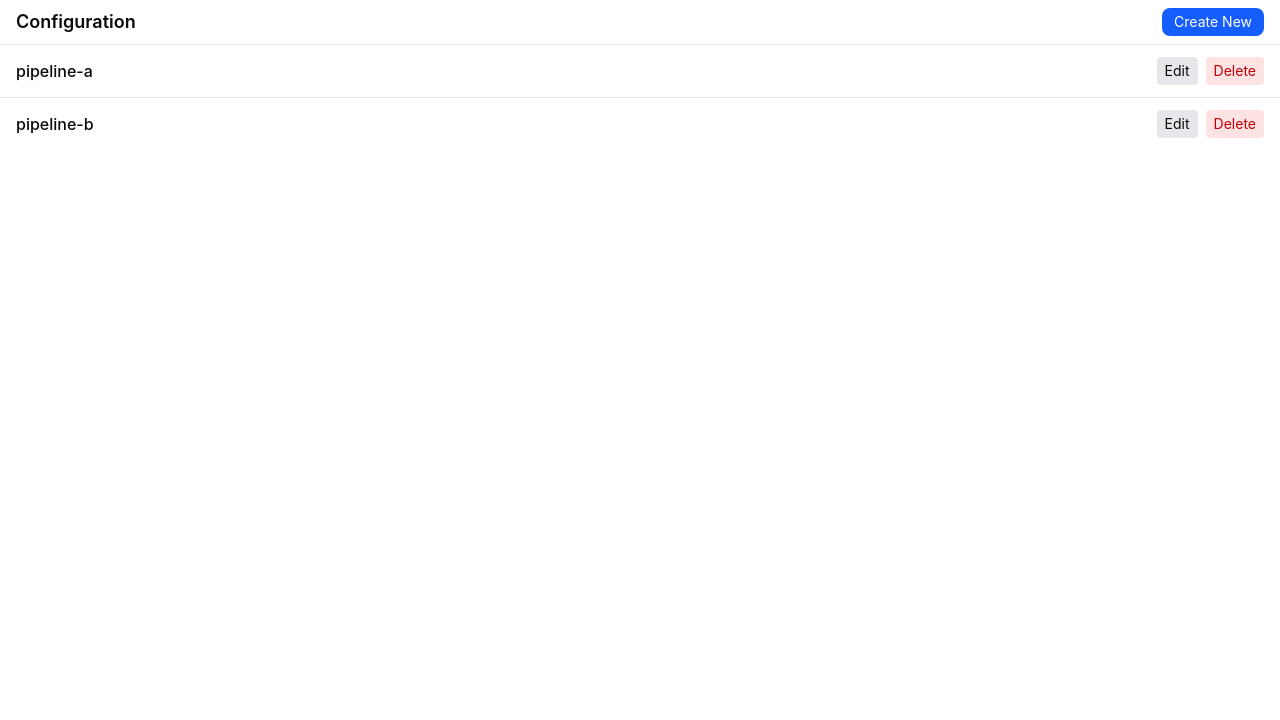
Test case: ConfigPanel › cancels editing and returns to list
Click the button with test id "config-create" at point(1213, 22), box [1162,8,1264,36]
(page scrolled)
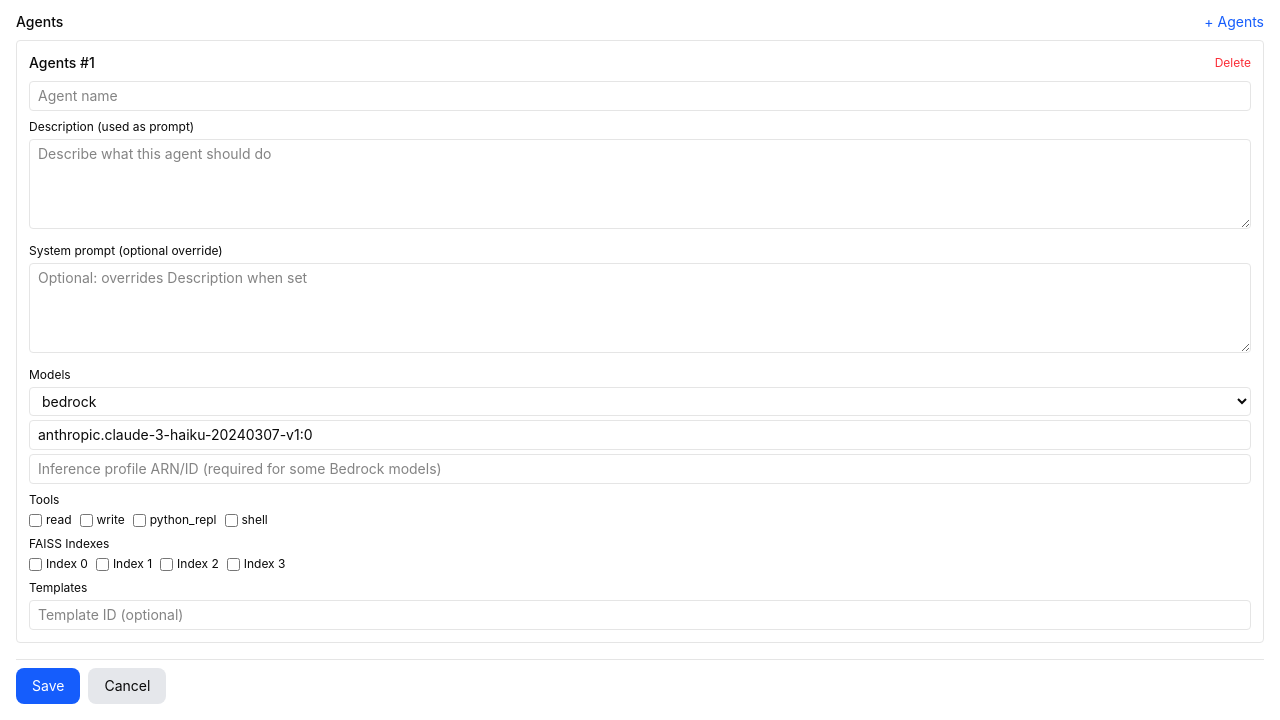
Click the button with test id "config-cancel" at point(127, 686), box [88,668,166,704]
(page scrolled)
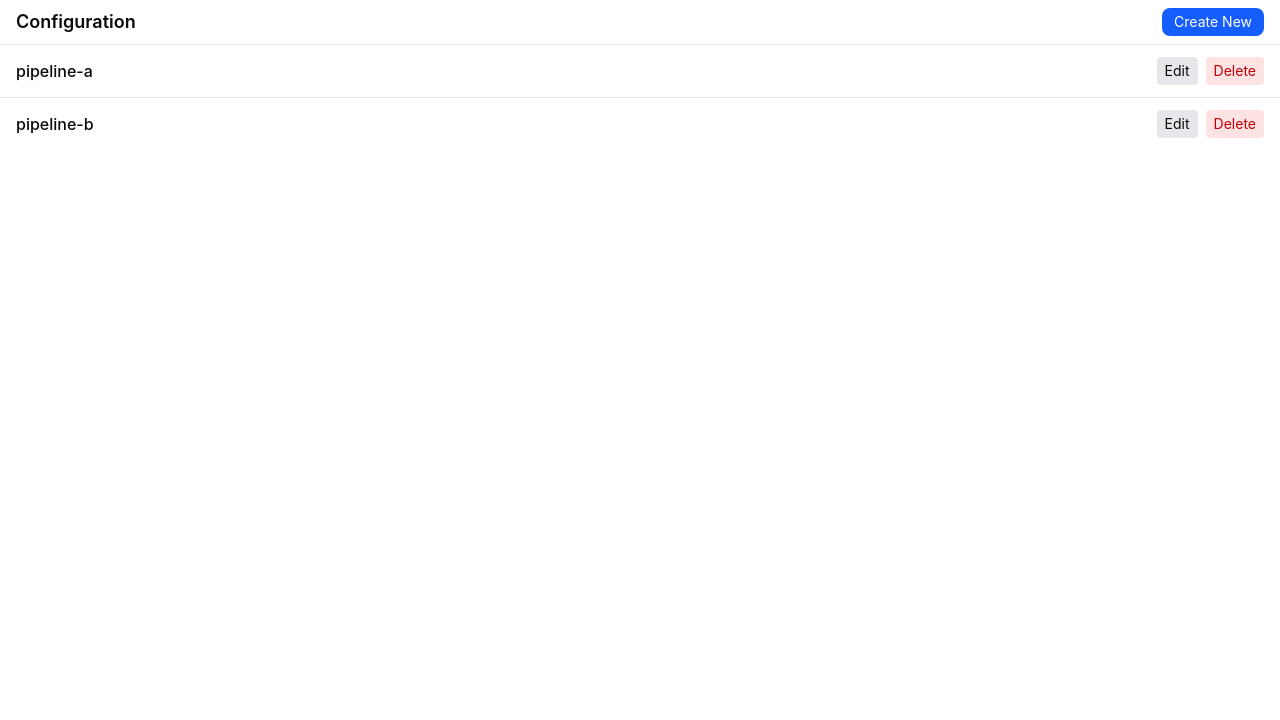
Now the element with test id "config-list" is shown, box [0,45,1279,150]
